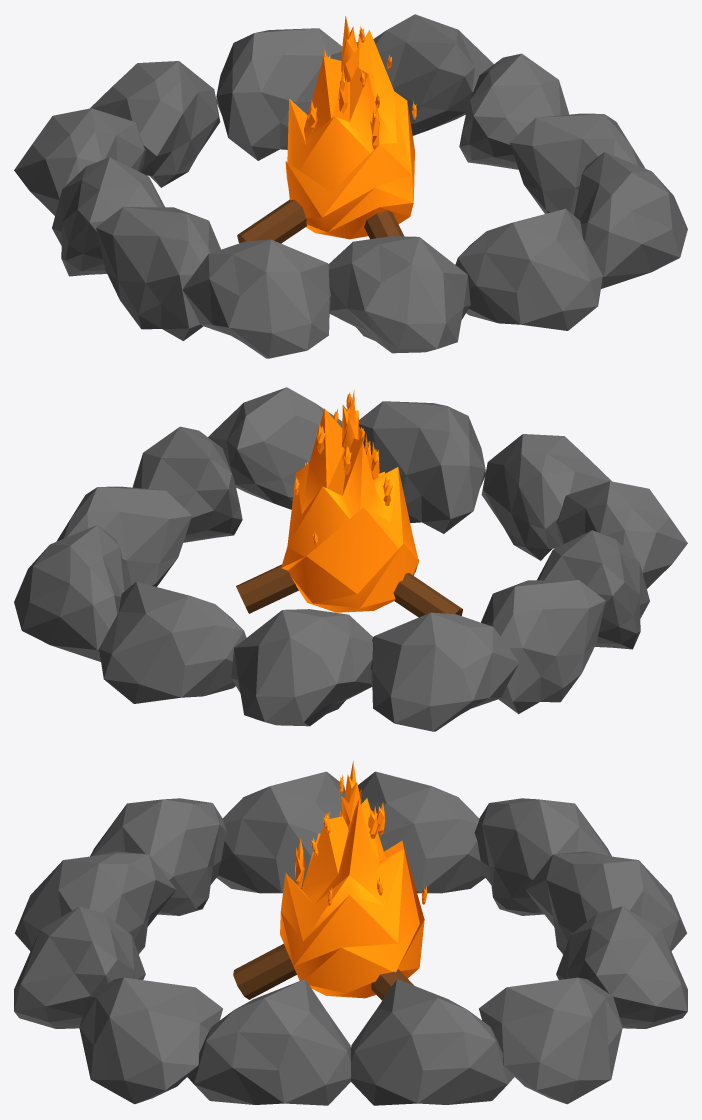
File: Bonfire.fbx
3 views of the same model, one above another, from view 1: azimuth 30°, elevation 25°; view 2: azimuth 150°, elevation 25°; view 3: azimuth 270°, elevation 25° (orthographic). The views are drawn at different scales.
Parts seen in each view (by area): view 1: Rock2.005, pSphere1.005; view 2: Rock2.005, pSphere1.005; view 3: Rock2.005, pSphere1.005.
Boxes of the visible parts, <box> form: Rock2.005: <box>14,14,687,358</box>; pSphere1.005: <box>237,16,416,243</box>; Rock2.005: <box>14,387,687,731</box>; pSphere1.005: <box>236,390,462,617</box>; Rock2.005: <box>14,771,687,1105</box>; pSphere1.005: <box>233,761,427,1000</box>.
Bounding box in the file's own units: 330 × 142 × 360.
